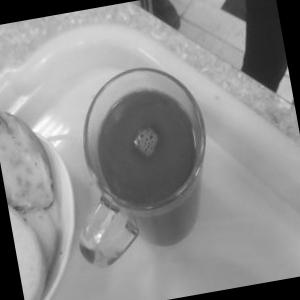coffee: (49, 51, 235, 264)
